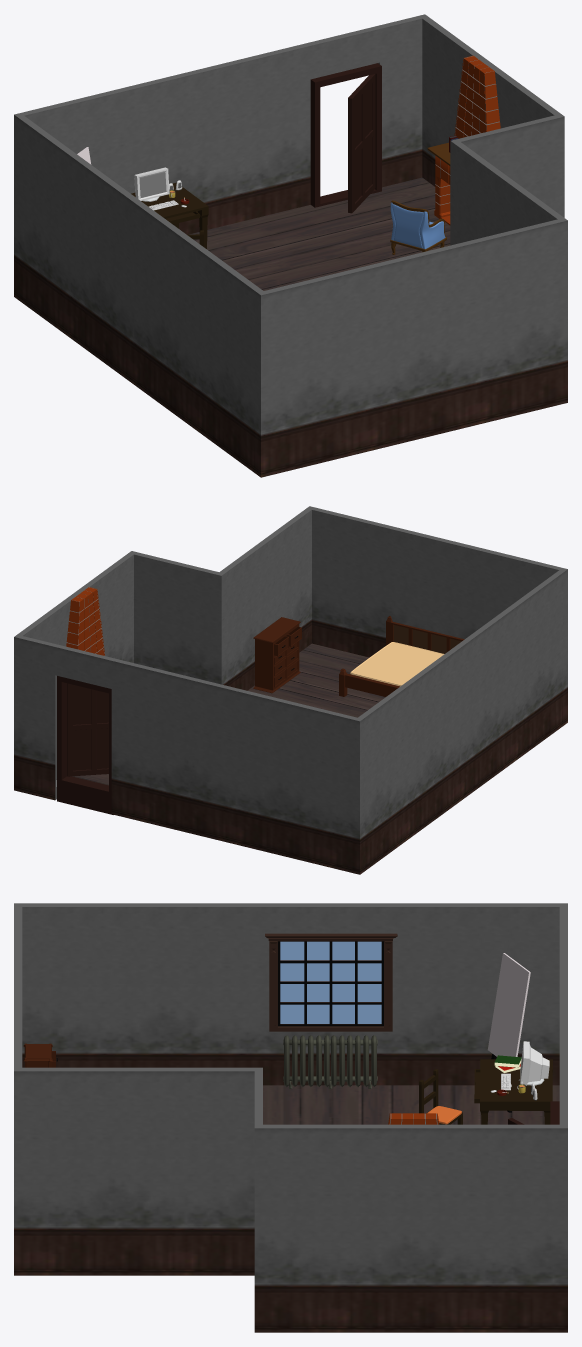
3 renders of one model, top to bottom at view 1: azimuth 30°, elevation 25°; view 2: azimuth 150°, elevation 25°; view 3: azimuth 270°, elevation 25°, orthographic. The views are drawn at different scales.
Visible parts, largest first — view 1: Cube.054, Cube, Cube.059, Cube.065, Cube.067, MSH_WoodBase, Cube.061, Compone205; view 2: Cube.054, Cube, Cube.065, Cube.067, Cube.017, Cube.072, mattress, Cube.059; view 3: Cube.054, wind_low.001, Cube, Cube.053, Componen34, Cube.061, Cube.068, Compone205, Cube.069, Cube.059.
Boxes of the visible parts, bbox=[...] form: Cube.054: bbox=[14, 14, 567, 477]; Cube: bbox=[189, 177, 450, 290]; Cube.059: bbox=[434, 55, 500, 218]; Cube.065: bbox=[348, 74, 375, 213]; Cube.067: bbox=[310, 63, 381, 207]; MSH_WoodBase: bbox=[390, 200, 446, 254]; Cube.061: bbox=[131, 182, 208, 248]; Compone205: bbox=[134, 167, 169, 200]; Cube.054: bbox=[14, 506, 567, 874]; Cube: bbox=[56, 643, 385, 786]; Cube.065: bbox=[67, 683, 108, 776]; Cube.067: bbox=[57, 676, 113, 814]; Cube.017: bbox=[253, 617, 300, 693]; Cube.072: bbox=[339, 616, 464, 696]; mattress: bbox=[350, 642, 444, 686]; Cube.059: bbox=[66, 587, 104, 655]; Cube.054: bbox=[14, 903, 567, 1332]; wind_low.001: bbox=[265, 933, 397, 1031]; Cube: bbox=[263, 1085, 559, 1124]; Cube.053: bbox=[283, 1035, 377, 1088]; Componen34: bbox=[487, 953, 530, 1056]; Cube.061: bbox=[480, 1059, 552, 1124]; Cube.068: bbox=[419, 1069, 462, 1124]; Compone205: bbox=[520, 1041, 549, 1085]; Cube.069: bbox=[23, 1043, 57, 1067]; Cube.059: bbox=[388, 1113, 439, 1124].
Size of what is drawn, in the model's own units: 800 by 347 by 833.
